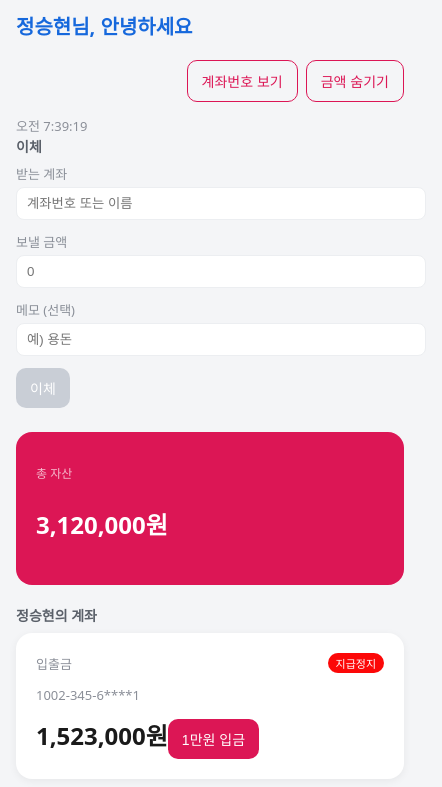
Test: App 안전망 테스트 › 계좌번호 토글 버튼을 누르면 전체 계좌번호가 보인다
The width and height of the screenshot is (442, 787).
expect the text "1002-345-6****1" is shown: met, box left=36, top=686, right=140, bottom=704
Click the button "계좌번호 보기" at (242, 81), box left=186, top=60, right=298, bottom=102
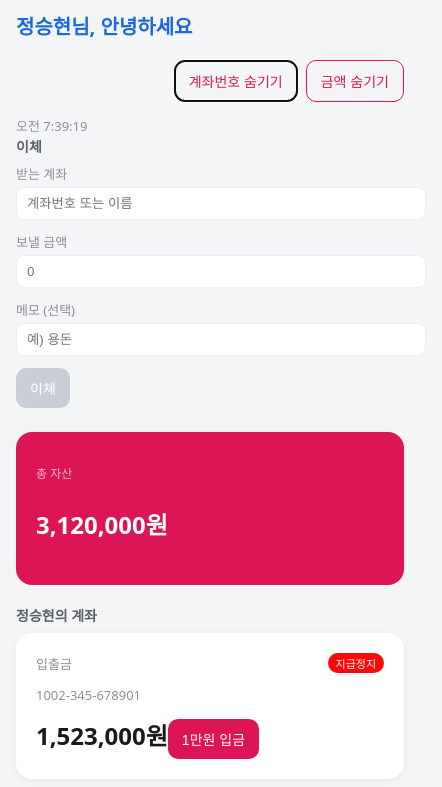
expect the text "1002-345-678901" is shown: met, box left=36, top=686, right=141, bottom=704
